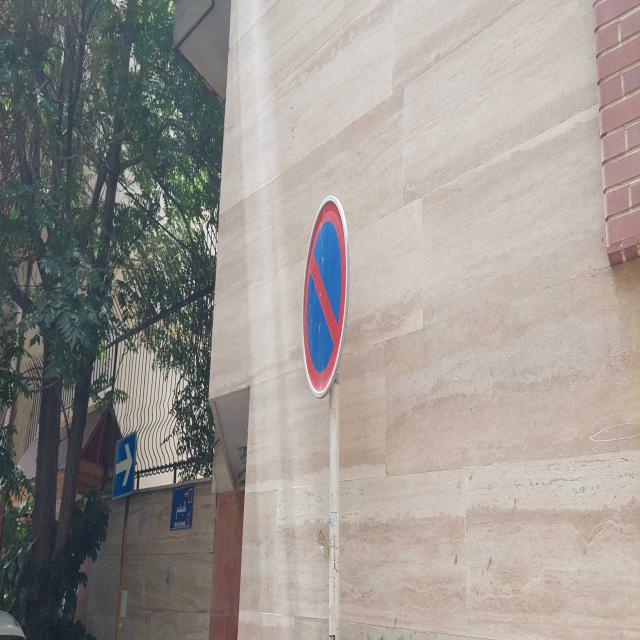forb_stopping: (300, 198, 352, 397)
